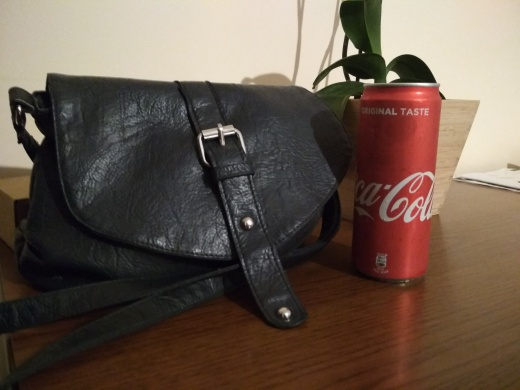cola: (348, 80, 445, 288)
